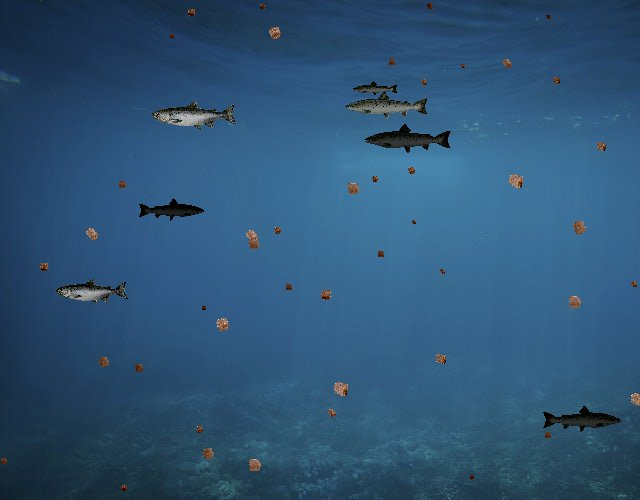Fish: (363, 123, 453, 155), (344, 90, 430, 121), (152, 100, 238, 131), (541, 405, 622, 434), (56, 278, 129, 304), (138, 197, 206, 222), (352, 81, 399, 98)
Pellet: (241, 452, 268, 479), (341, 176, 366, 201), (497, 53, 517, 73), (183, 4, 200, 21), (373, 247, 388, 261), (458, 61, 468, 70)
